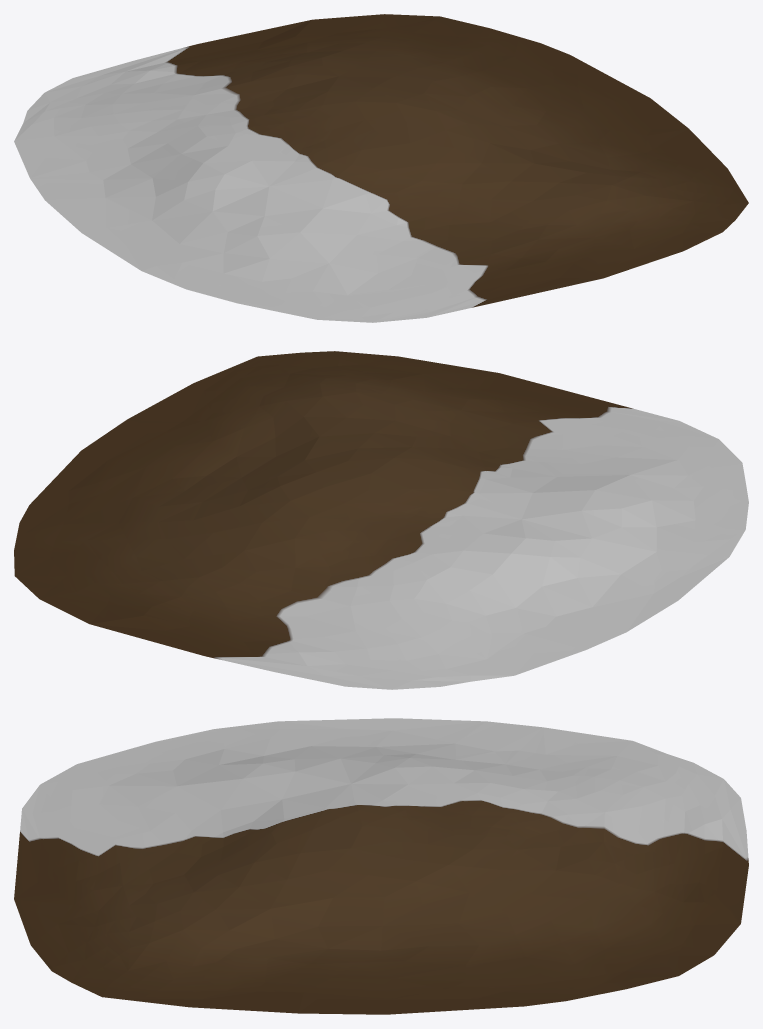
File: Hill_01.fbx
3 views of the same model, one above another, from view 1: azimuth 30°, elevation 25°; view 2: azimuth 150°, elevation 25°; view 3: azimuth 270°, elevation 25° (orthographic). The views are drawn at different scales.
Parts seen in each view (by area): view 1: Hill_01; view 2: Hill_01; view 3: Hill_01.
Boxes of the visible parts, x1,y1,x2,y2 form: Hill_01: (14,14,748,322); Hill_01: (14,351,748,689); Hill_01: (14,718,748,1014).
Size of the model in its own units: 18.87 by 0.9397 by 19.76.
